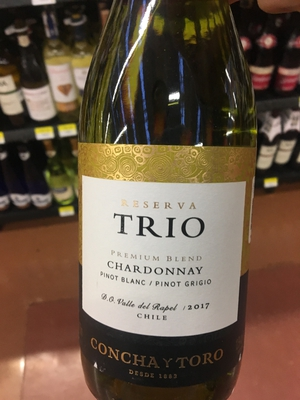trio chardonnay: (75, 38, 262, 400)
